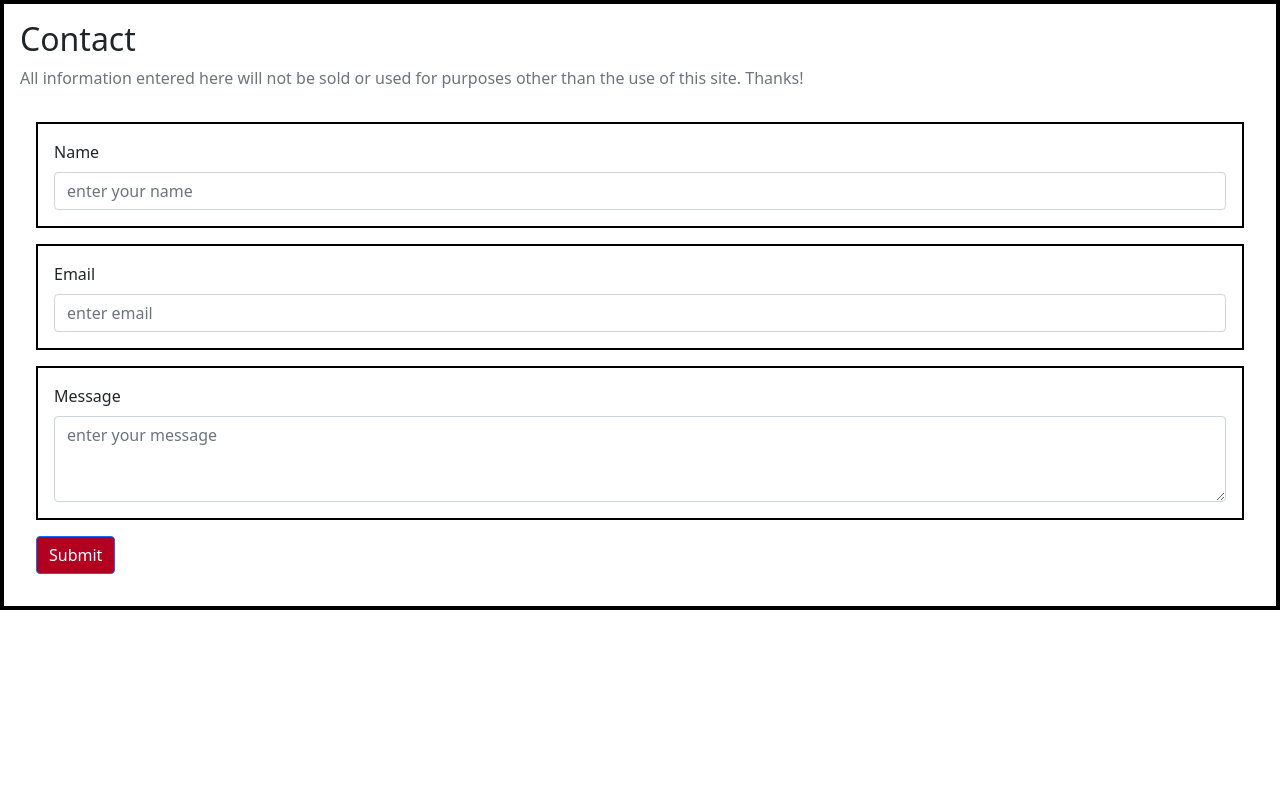
Test case: flags a bad contact message
Type "jd@example.net" into the field labelled "Email" at (640, 313), box [54,294,1226,332]
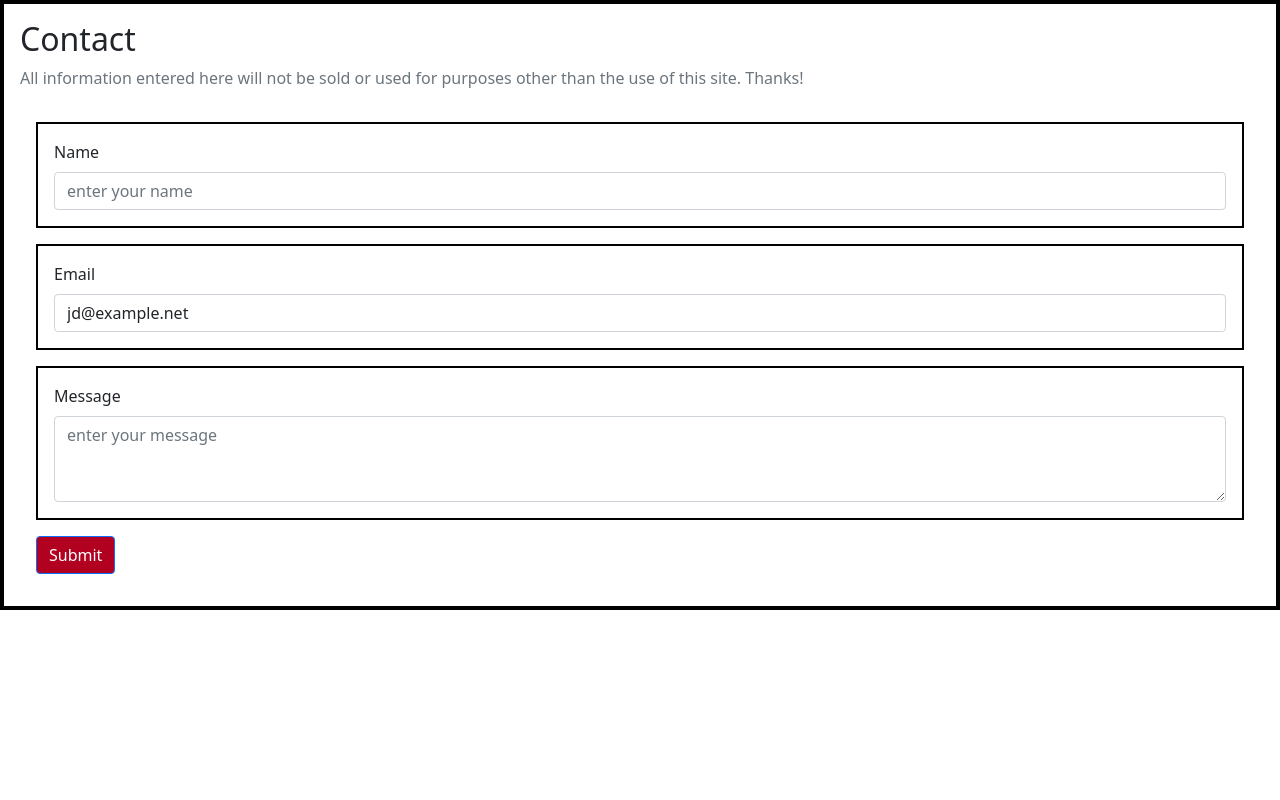
Type "This is only a test." into the text box labelled "Message" at (640, 459), box [54,416,1226,502]
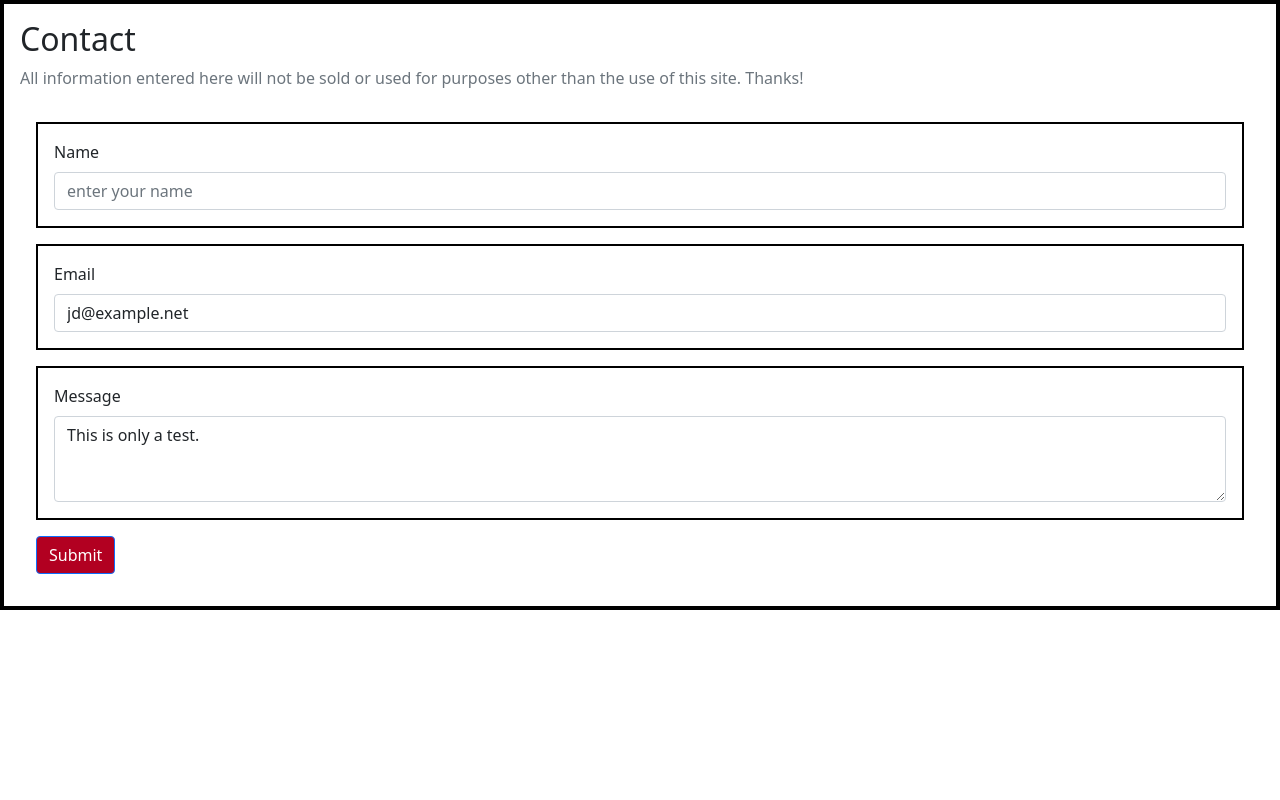
Submit the form, box [20,106,1260,590]
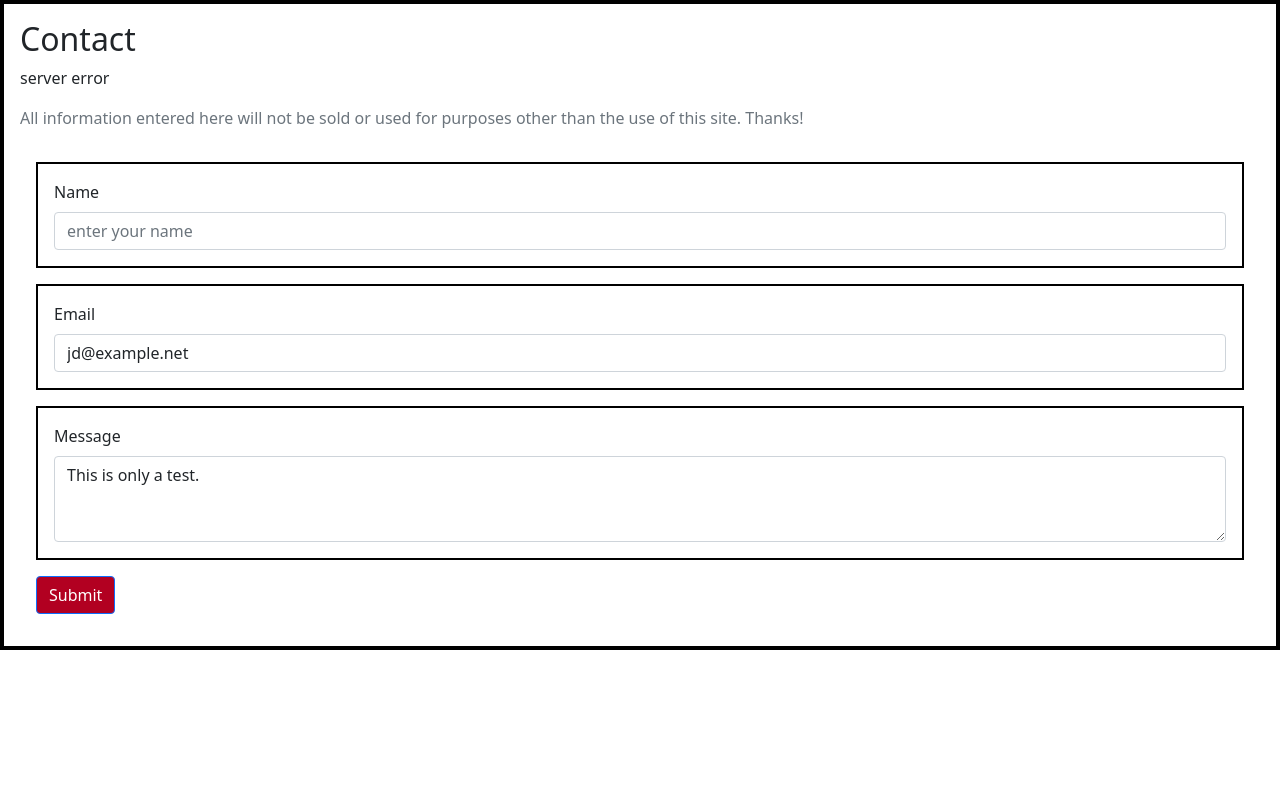
Expected: the form with placeholder "spammer" holds "false", [20,146,1260,630]
Now the text "server error" is shown, box [20,67,109,89]
